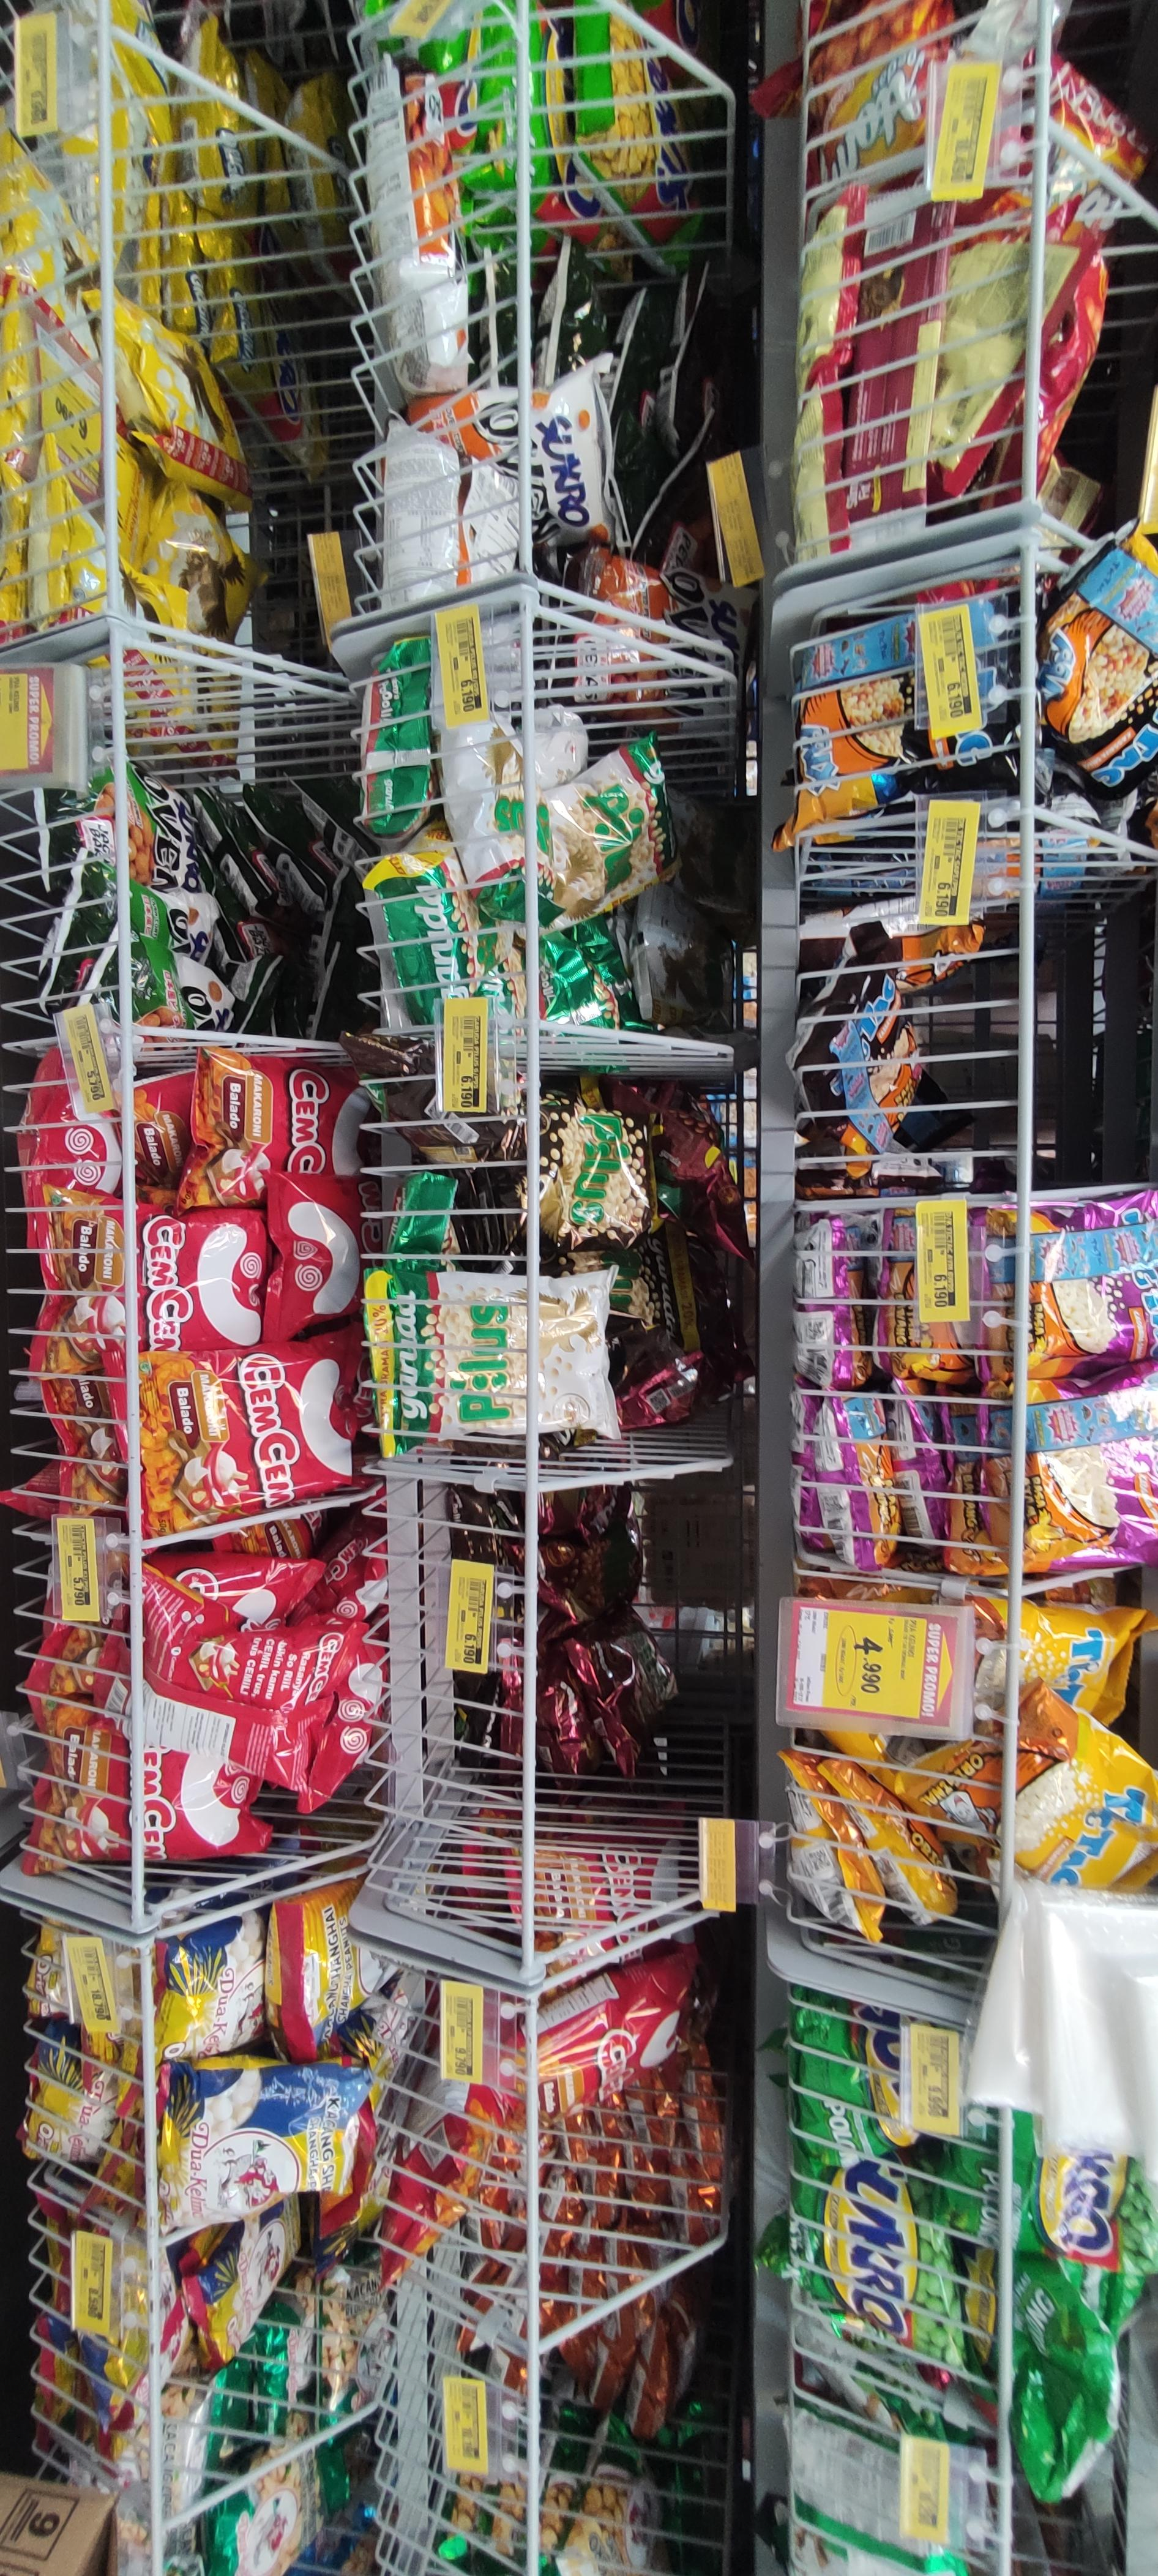90101151402100: (514, 1092, 659, 1244)
90101151604100: (358, 1268, 619, 1444)
CemCemBalado: (99, 1355, 365, 1523), (0, 1207, 266, 1375)
KacangDuaKelinciOriginal: (166, 2065, 376, 2224)
TicTacAyamBawang: (949, 1380, 1158, 1580), (981, 1204, 1158, 1380)
